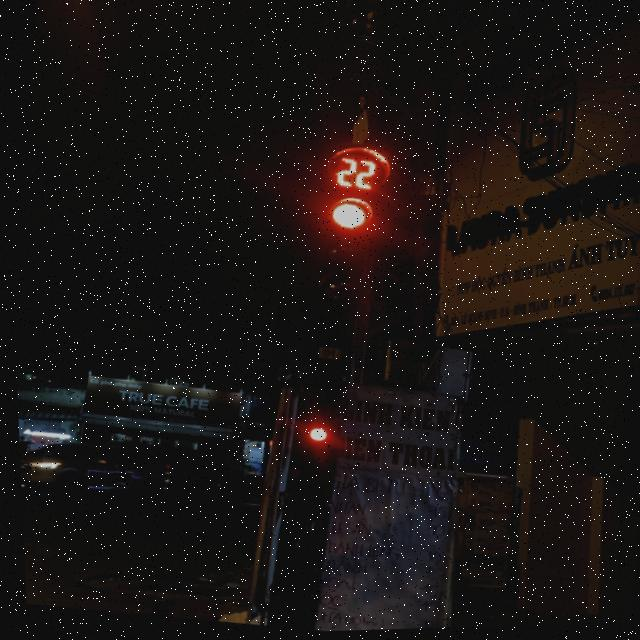Red: (306, 184, 379, 322), (285, 413, 338, 503)
